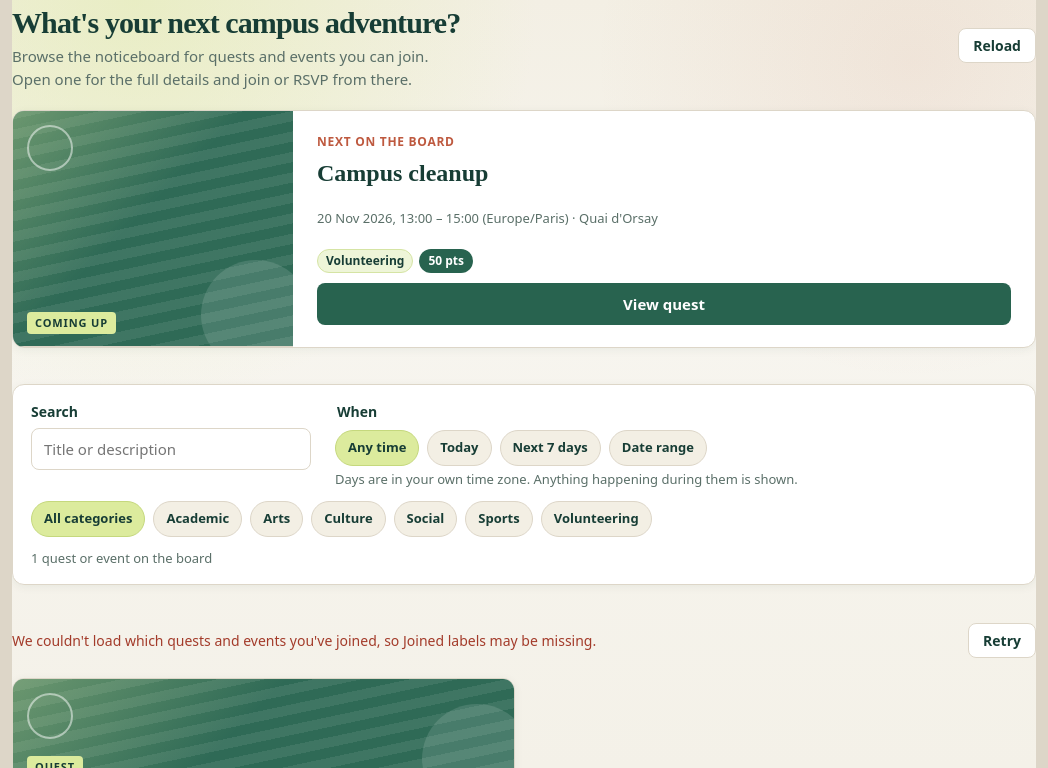
Discovering quests and events › keeps the catalogue when participations can't be loaded
Expected: the text "couldn't load which quests and events you've joined" is shown, [12,631,596,650]
Click the button "Retry" at (1002, 641), box [968,623,1036,658]
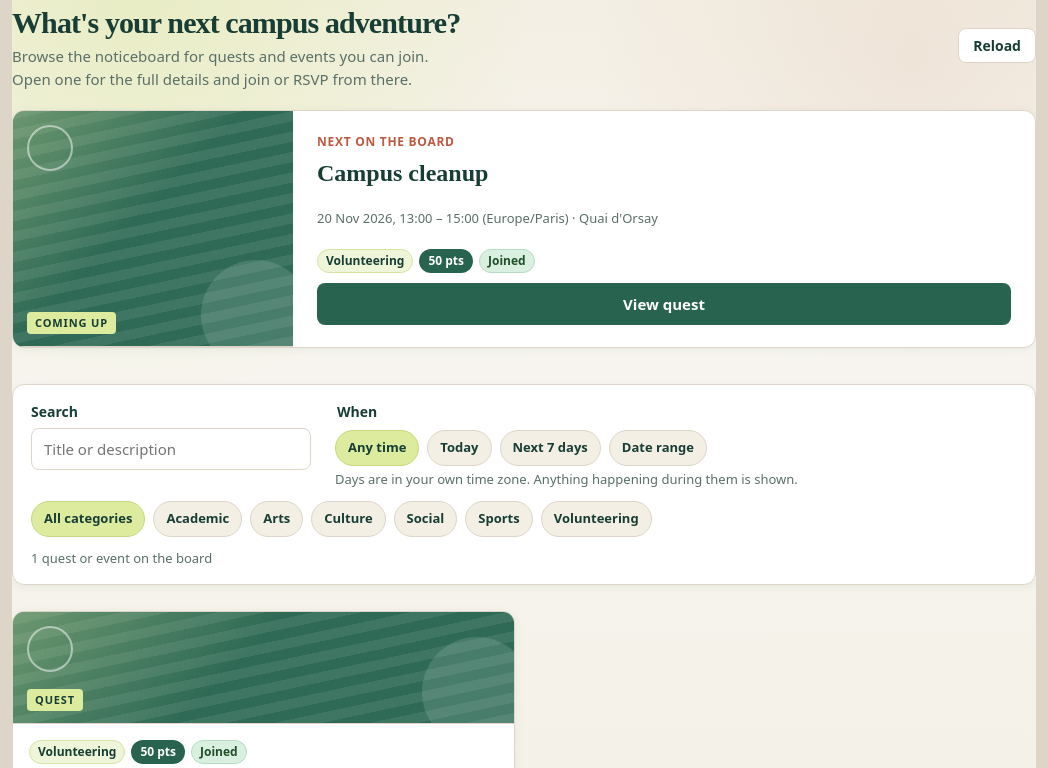
Expected: the 2nd text "Joined" is shown, [191,740,247,764]
Expected: the text "couldn't load which" is gone
